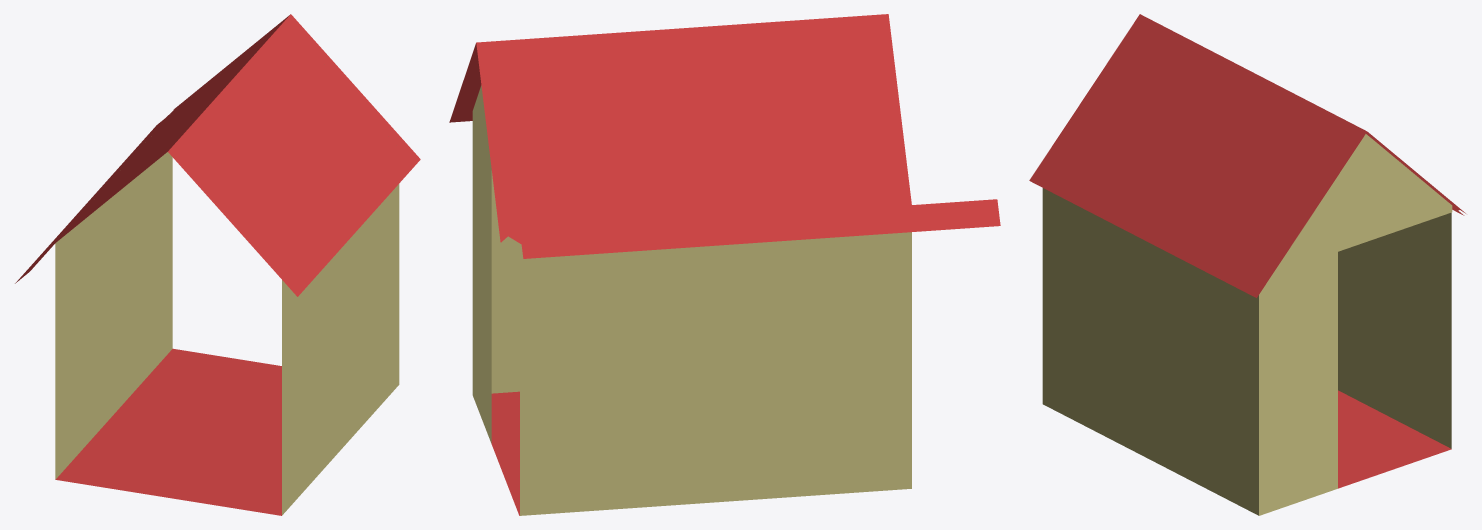
3 views of the same model, side by side, from view 1: azimuth 30°, elevation 25°; view 2: azimuth 150°, elevation 25°; view 3: azimuth 270°, elevation 25° (orthographic). The views are drawn at different scales.
Size of the model in its own units: 14.88 by 12.66 by 11.35.
